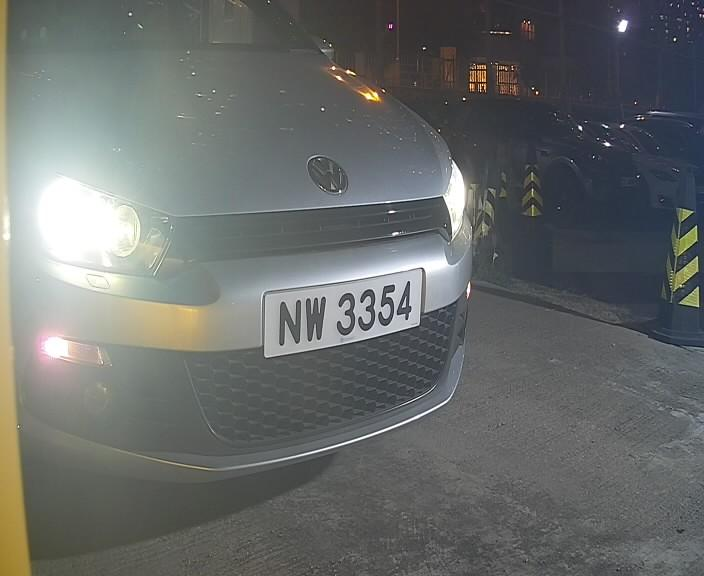License Plate: (252, 265, 431, 361)
